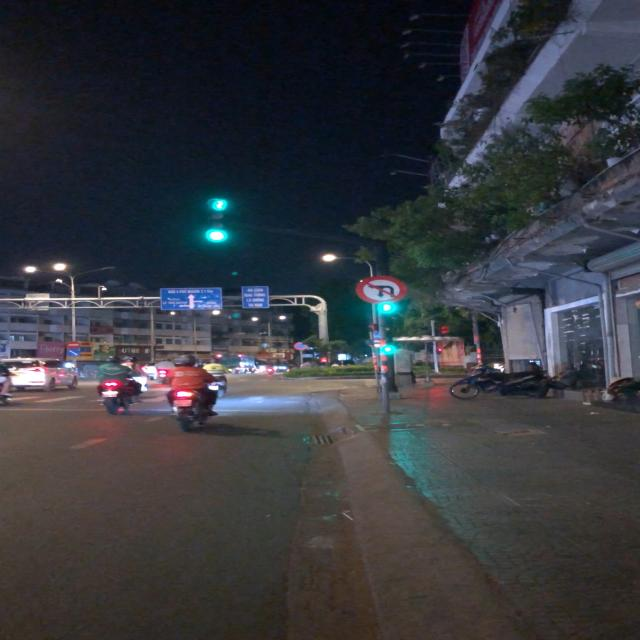Bien bao cam re trai va quay dau: (353, 275, 406, 304)
